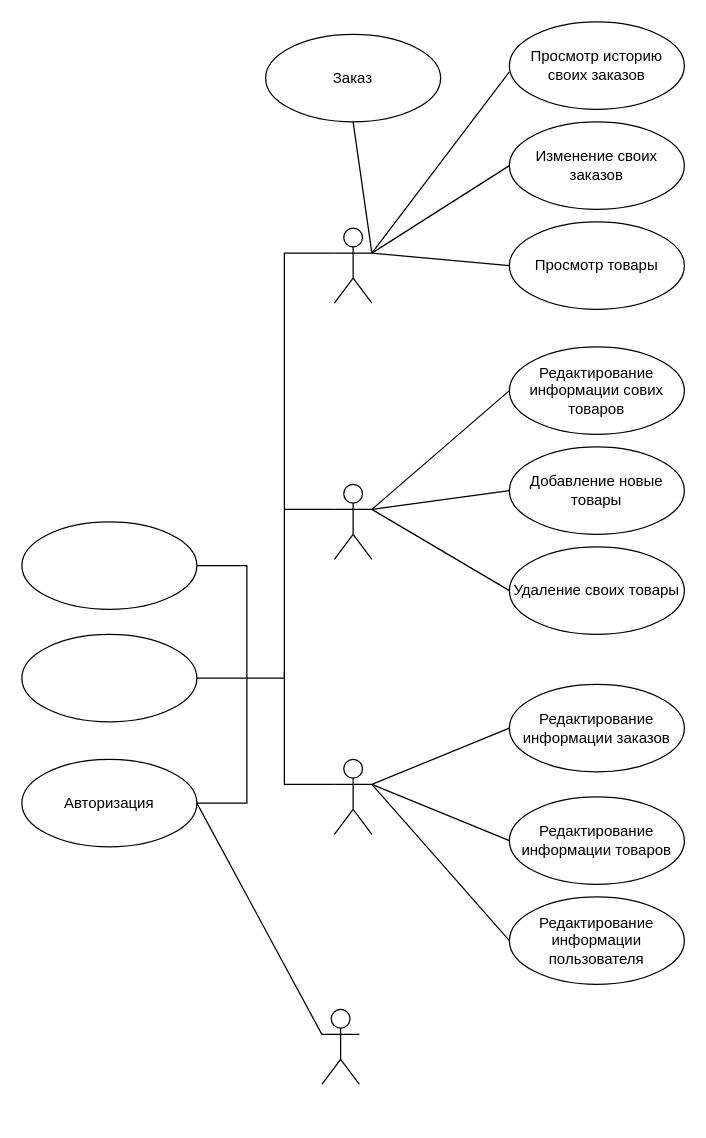
This 706x1138 diagram has some shape labels left out. Each missing label, with the centre of its shape:
"Адмитнистратор" goes at (x=352, y=796).
"выход" goes at (x=109, y=677).
"Гость" goes at (x=340, y=1046).
"Клиент" goes at (x=352, y=265).
"Поставщик" goes at (x=352, y=521).
"Редактирование своих информации" goes at (x=109, y=565).
